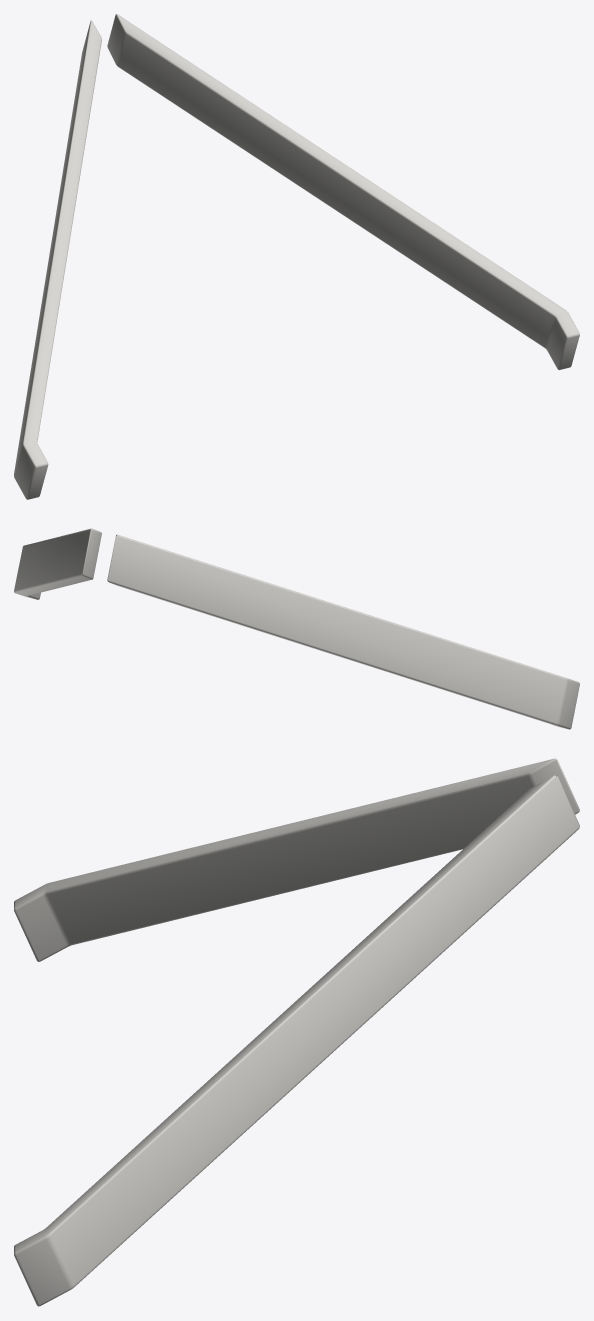
The model's file is diagonales_pata2.obj.
3 views of the same model, one above another, from view 1: azimuth 30°, elevation 25°; view 2: azimuth 150°, elevation 25°; view 3: azimuth 270°, elevation 25° (orthographic). The views are drawn at different scales.
Visible parts, largest first — view 1: Diagonales_Pata2; view 2: Diagonales_Pata2; view 3: Diagonales_Pata2.
Part boxes in pixels (box(x1,y1,x2,y2)): Diagonales_Pata2: box(14, 14, 579, 499); Diagonales_Pata2: box(14, 528, 579, 729); Diagonales_Pata2: box(14, 758, 579, 1306).
Bounding box in the file's own units: 0.3704 × 0.1779 × 0.2508.
1 material, 1 textured.
